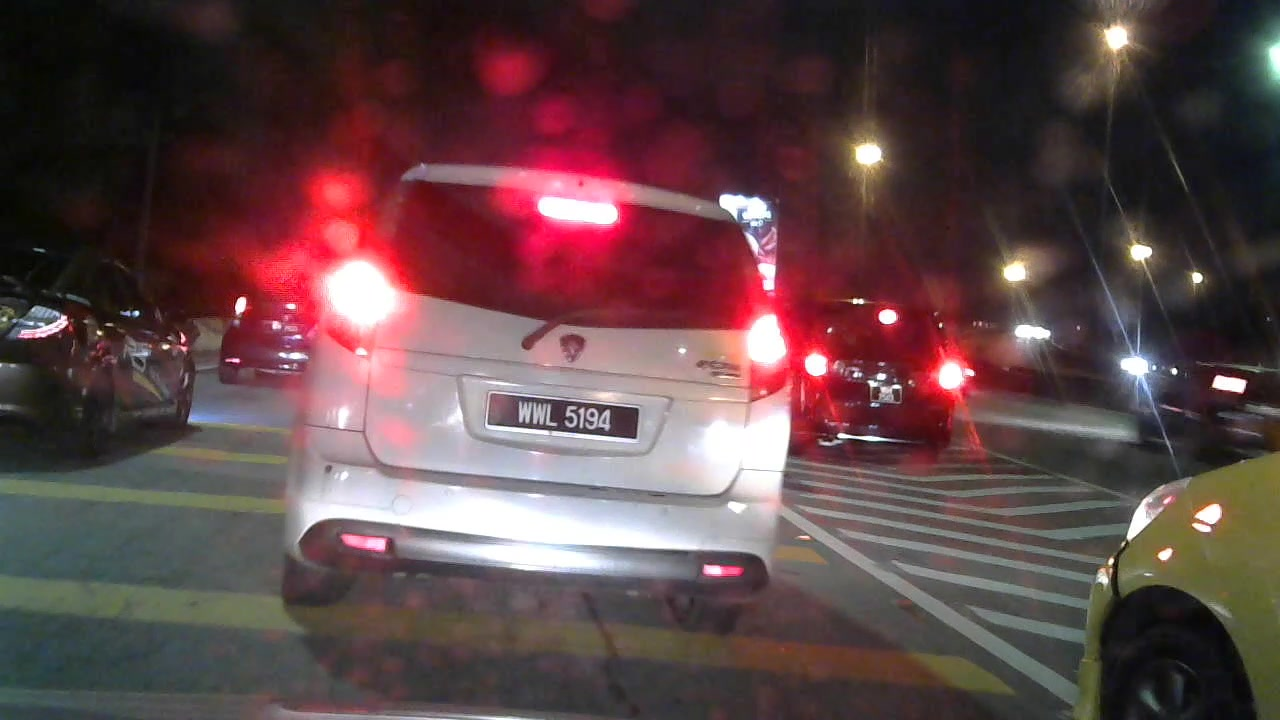Car: (301, 150, 785, 632), (1034, 410, 1280, 719), (1, 260, 200, 438), (789, 296, 974, 455), (1127, 346, 1275, 442), (217, 282, 331, 387)
